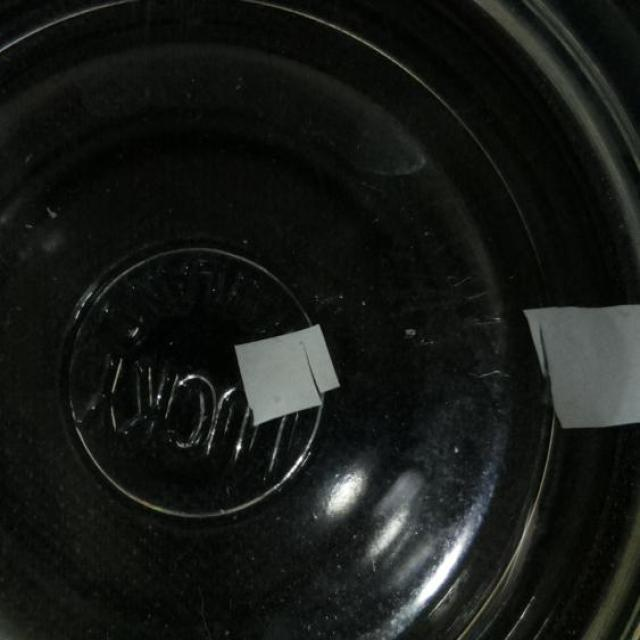fiber: (516, 298, 639, 440), (232, 319, 345, 428)
